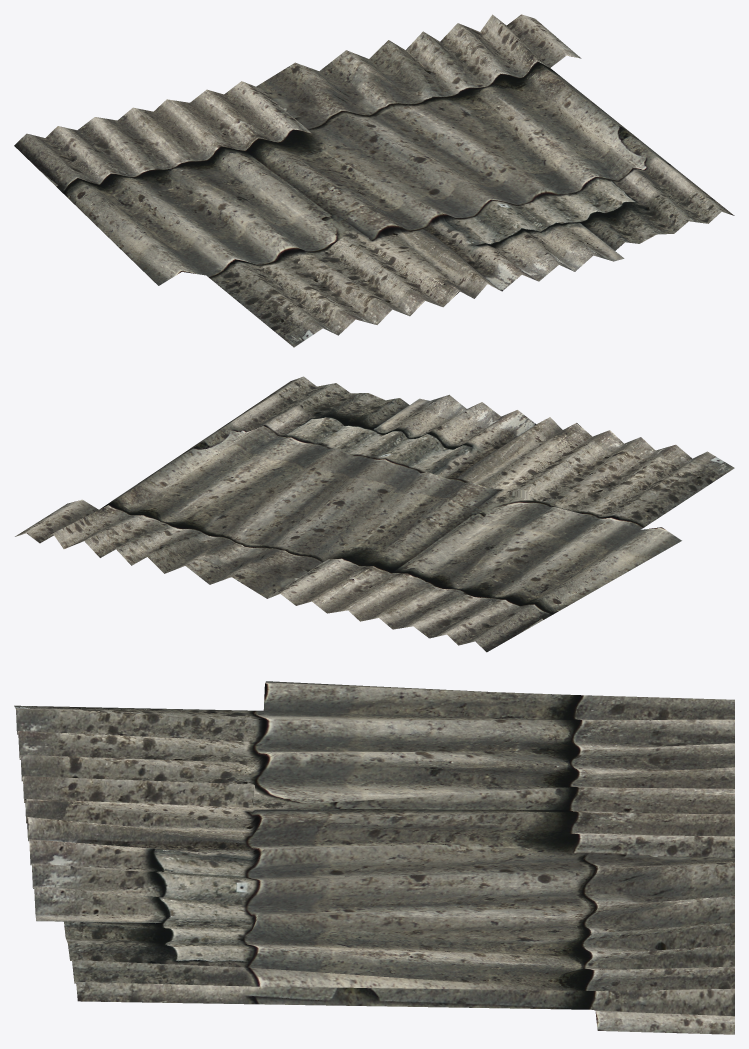
Rendered from Metal_scr1.fbx.
The picture shows the model from 3 angles, top to bottom: view 1: azimuth 30°, elevation 25°; view 2: azimuth 150°, elevation 25°; view 3: azimuth 270°, elevation 25°; orthographic projection. The views are drawn at different scales.
Visible parts, largest first — view 1: polySurface230; view 2: polySurface230; view 3: polySurface230.
Boxes of the visible parts, box(x1,y1,x2,y2) form: polySurface230: box(14, 14, 734, 347); polySurface230: box(15, 376, 734, 652); polySurface230: box(14, 681, 734, 1034).
Size of the model in its own units: 1.81 by 0.0453 by 1.56.
